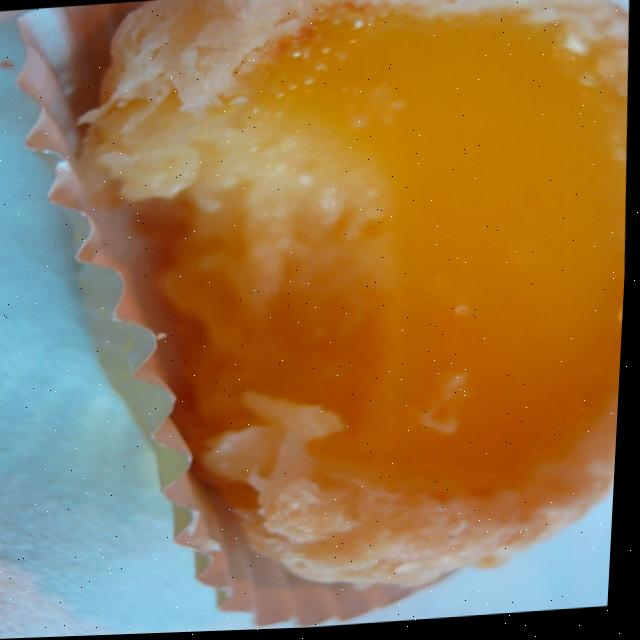炸货点心: (32, 0, 627, 629)
蛋糕甜品: (32, 0, 627, 629)
